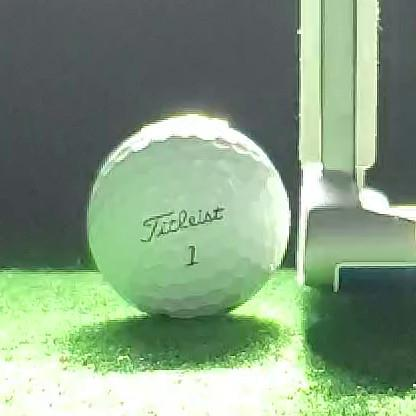golfball: (87, 115, 290, 321)
